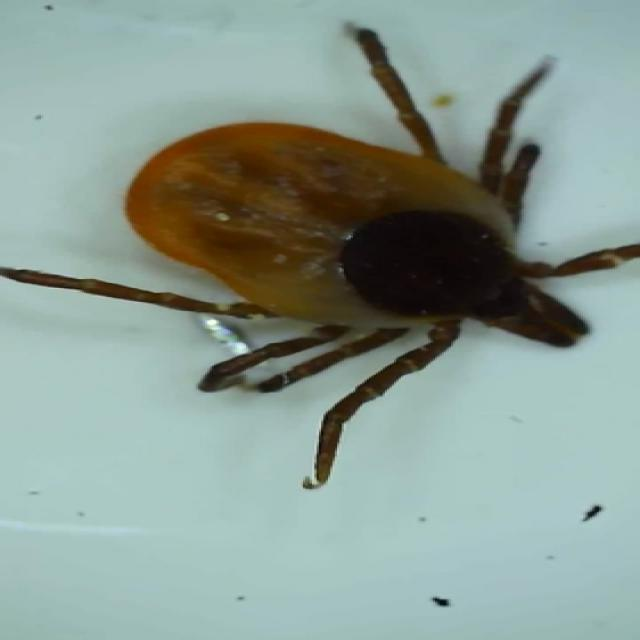Ixodes Ricinus-F-Fed: (0, 20, 640, 489)
